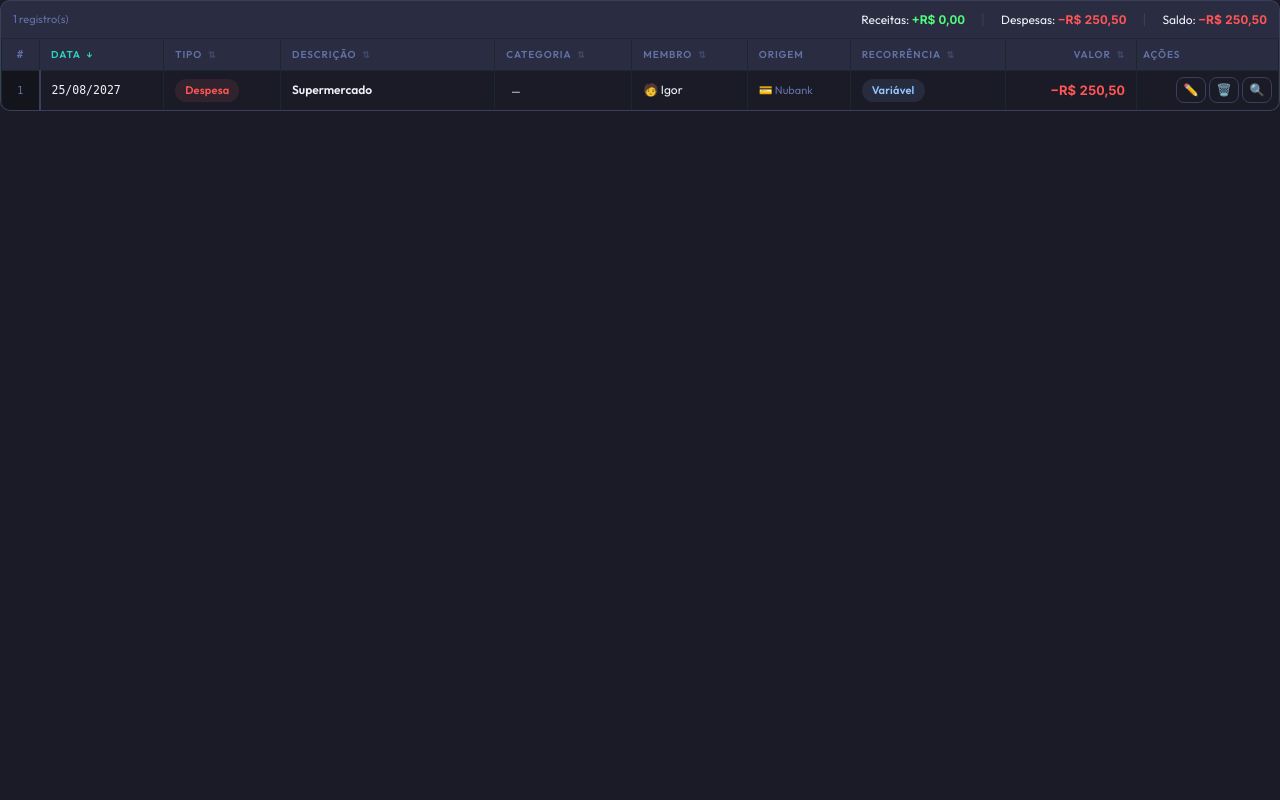
Test case: TxTable — read-only details view › opens the details modal and shows the observations text in full
Click the button titled "Detalhes": (1257, 90) x1=1242 y1=77 x2=1272 y2=103
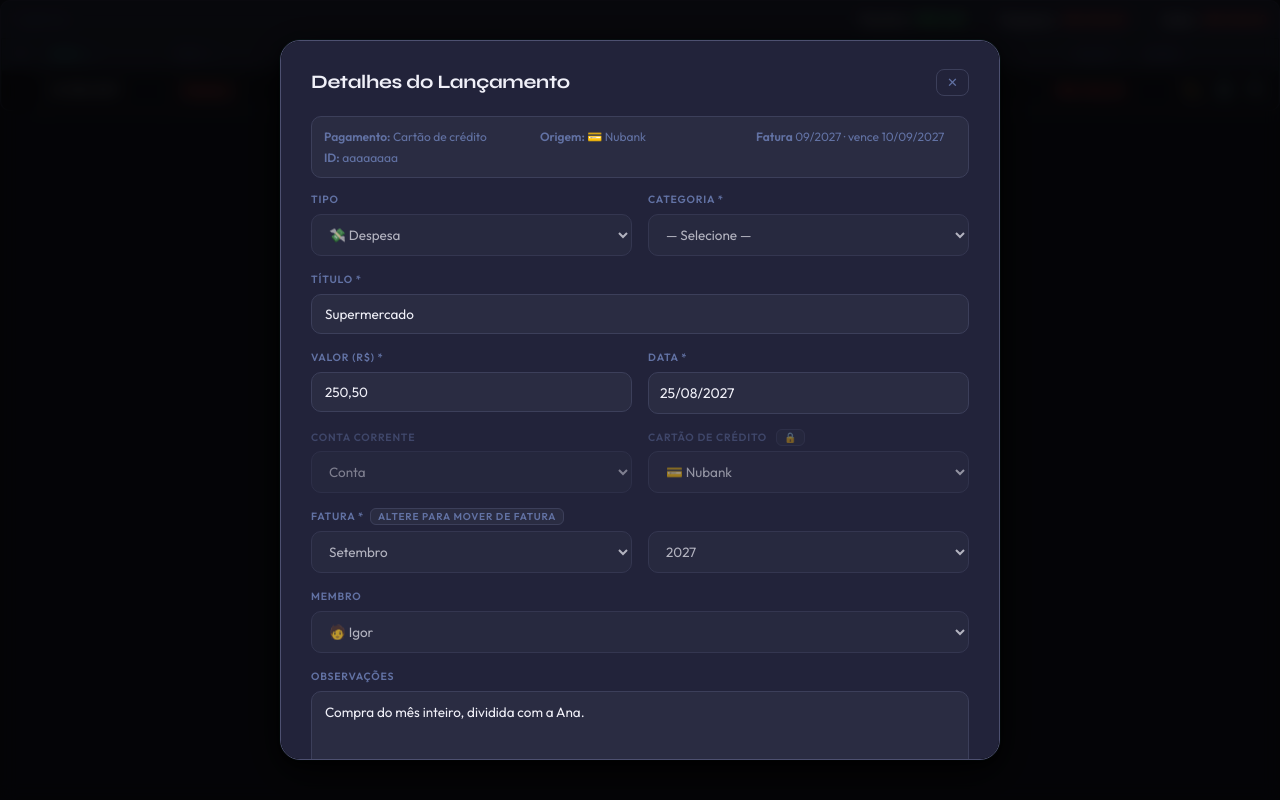
Expected: the heading "Detalhes do Lançamento" is shown, x1=311 y1=71 x2=570 y2=94
Expected: the text box showing "Compra do mês inteiro, dividida com a Ana." is shown, x1=311 y1=691 x2=969 y2=760
Expected: the element showing "Compra do mês inteiro, dividida com a Ana." is disabled, x1=311 y1=116 x2=969 y2=760
